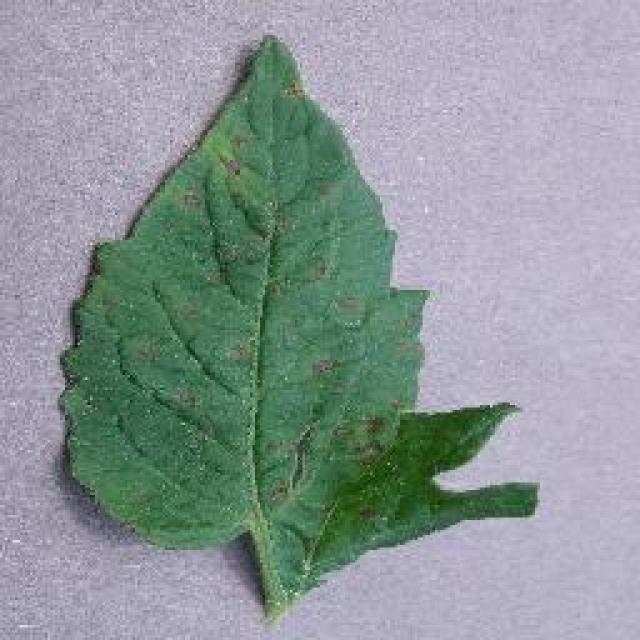Tom_Septoria_leaf_spot: (165, 142, 354, 310), (260, 350, 400, 520)
